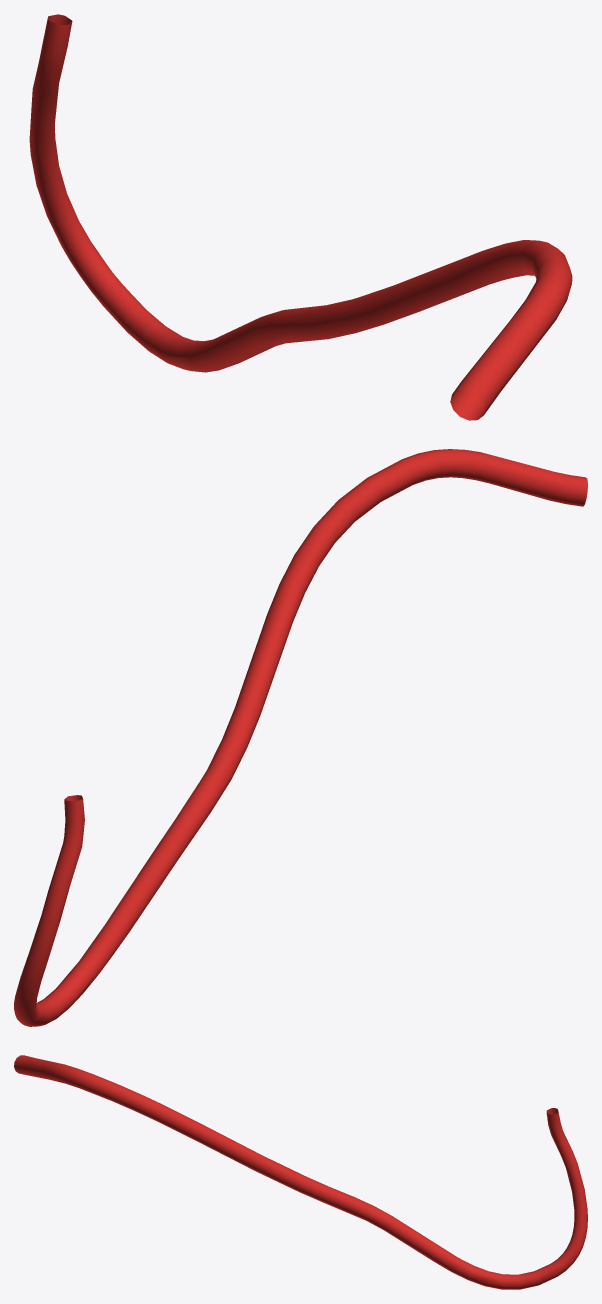
File: circulatorio-circumflex-scapular-vein-l.glb
3 renders of one model, top to bottom at view 1: azimuth 30°, elevation 25°; view 2: azimuth 150°, elevation 25°; view 3: azimuth 270°, elevation 25°, orthographic. The views are drawn at different scales.
Visible parts, largest first — view 1: Circumflex scapular vein.l; view 2: Circumflex scapular vein.l; view 3: Circumflex scapular vein.l.
Part boxes in pixels (x1,y1,x2,y2): Circumflex scapular vein.l: (29, 14, 572, 420); Circumflex scapular vein.l: (14, 449, 587, 1026); Circumflex scapular vein.l: (14, 1055, 587, 1289).
Bounding box in the file's own units: 0.0122 × 0.0217 × 0.0542.
